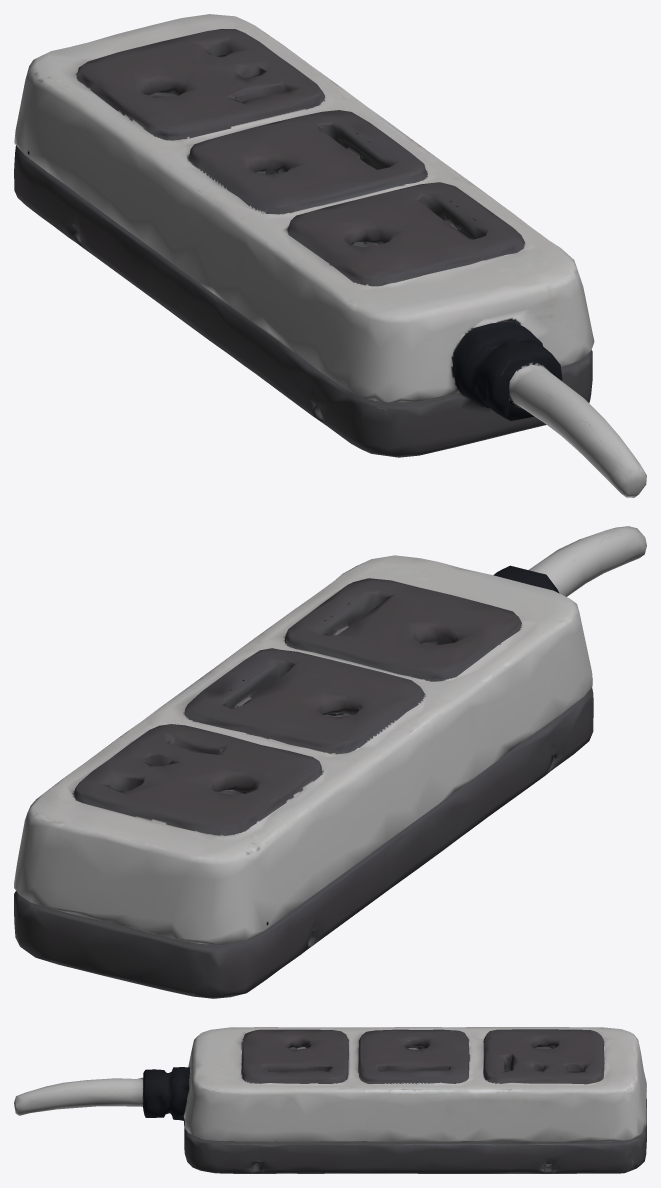
The model's file is computerlab_SurgeProtector.glb.
The picture shows the model from 3 angles, top to bottom: view 1: azimuth 30°, elevation 25°; view 2: azimuth 150°, elevation 25°; view 3: azimuth 270°, elevation 25°; orthographic projection. The views are drawn at different scales.
Parts seen in each view (by area): view 1: world; view 2: world; view 3: world.
Boxes of the visible parts, <box> form: world: <box>14,14,646,497</box>; world: <box>14,526,646,998</box>; world: <box>14,1027,646,1173</box>.
Size of the model in its own units: 0.2672 by 0.1546 by 1.
Materials: 1 (1 with a texture image).
